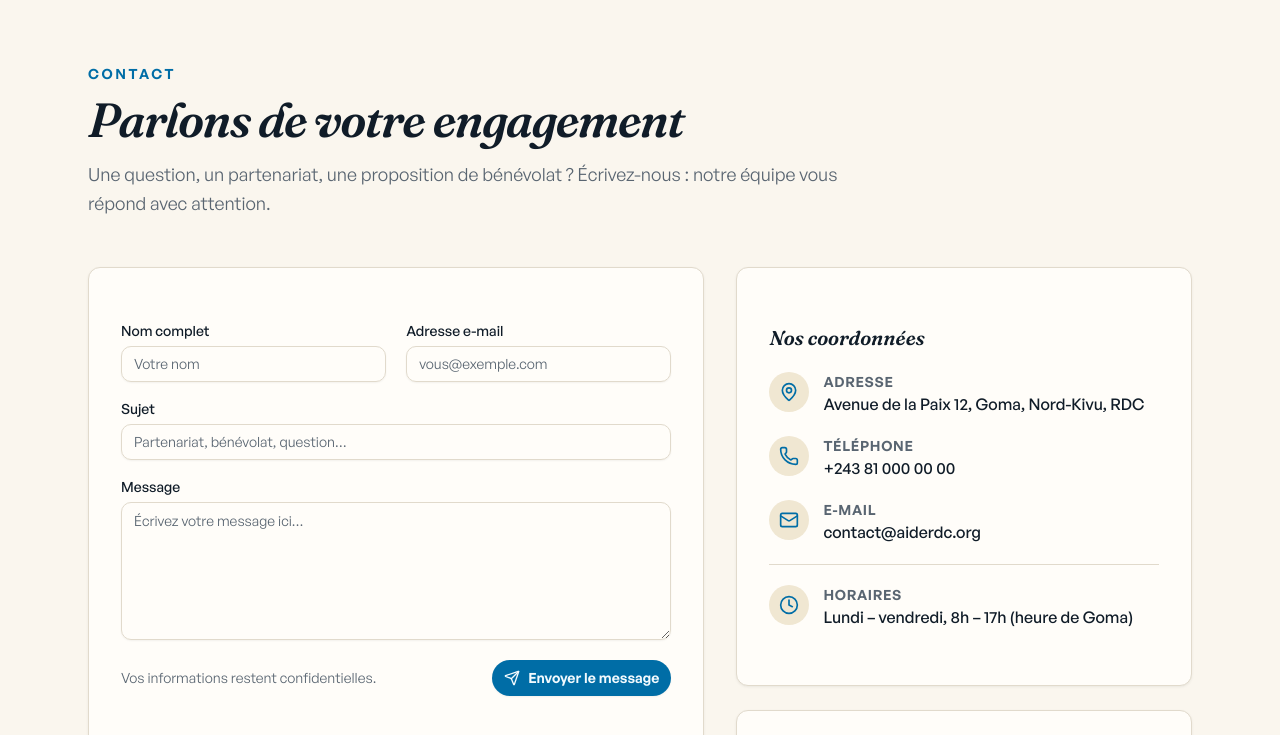
Test: ContactPage › validates required fields in French before submitting
This screenshot has width=1280, height=735.
What coordinates should you click on to do the following:
click the button with test id "contact.submit_button"
I would click on:
 (582, 678)
Its box is [492,660,671,696].
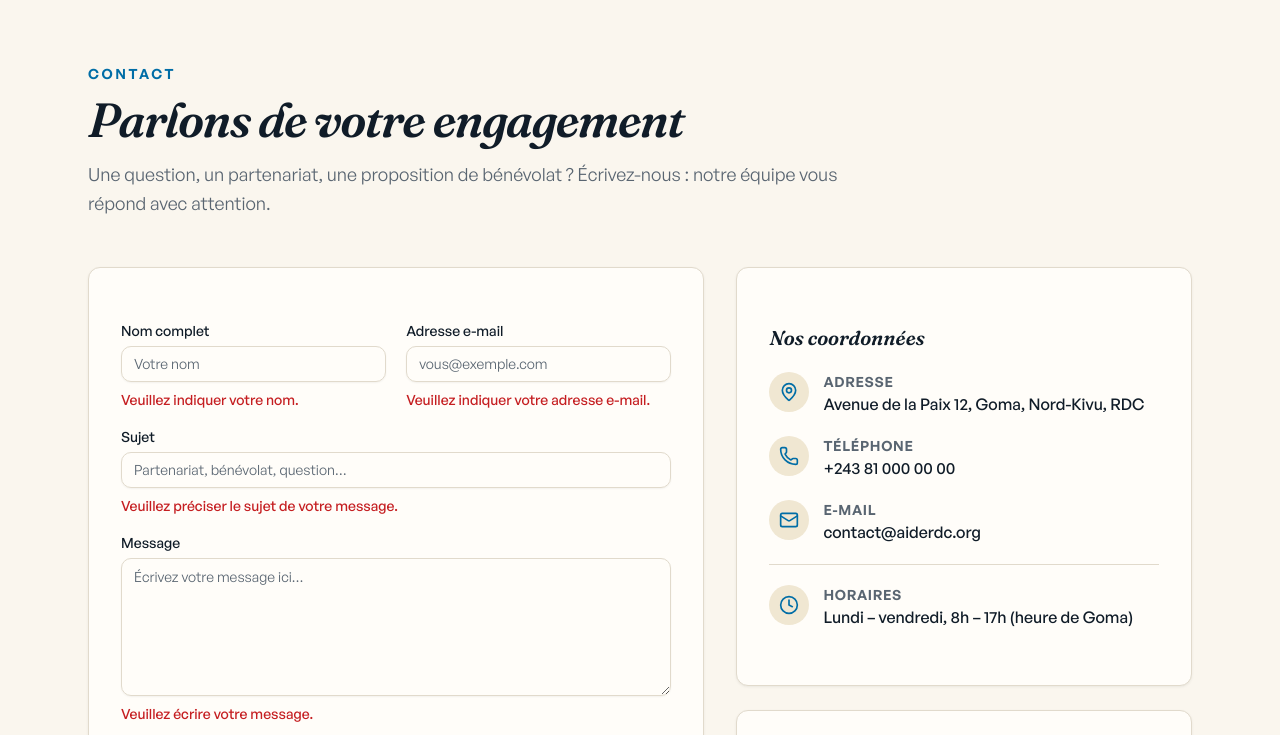
Now the text "Veuillez indiquer votre nom." is shown, box [121,390,299,408]
Now the text "Veuillez indiquer votre adresse e-mail." is shown, box [406,390,671,410]
Now the text "Veuillez préciser le sujet de votre message." is shown, box [121,496,398,514]
